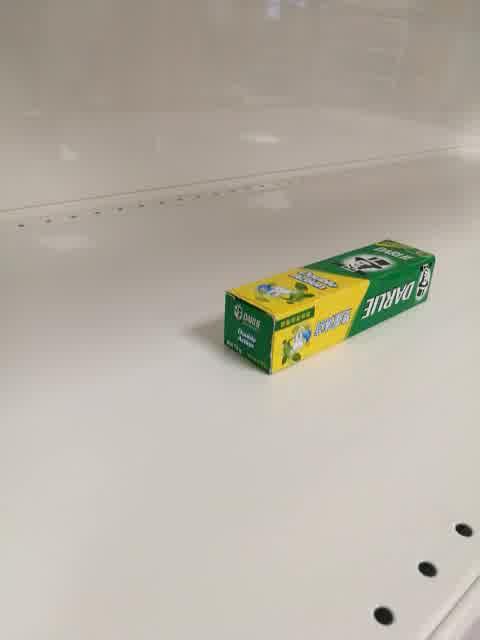toothpaste: (223, 238, 438, 377)
